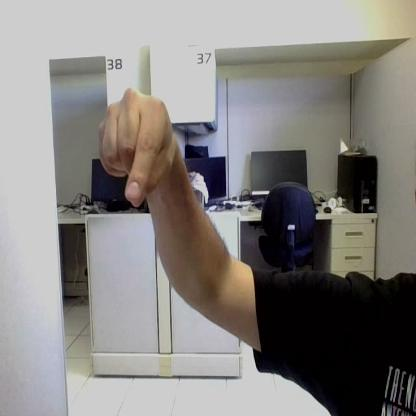Q: (99, 89, 171, 206)
